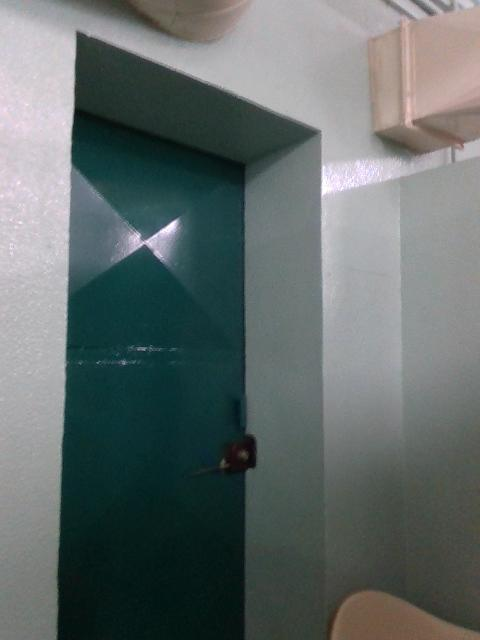door: (58, 117, 258, 640)
